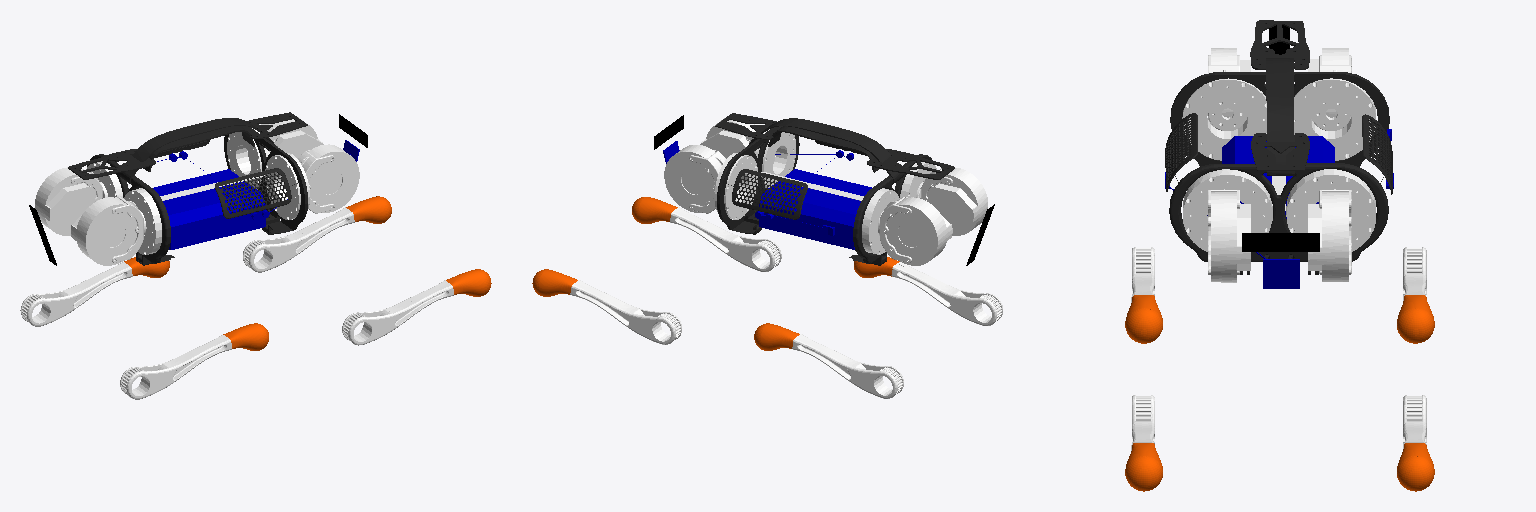
--- Facts derived from the render (not from the file) ---
Views: 3 orthographic renders of the robot side by side, from view 1: azimuth 30°, elevation 25°; view 2: azimuth 150°, elevation 25°; view 3: azimuth 270°, elevation 25°.
Model ylo2 with 25 links and 24 joints (8 revolute, 4 continuous, 11 fixed, 1 floating), rooted at world, posed all joints at 0 but 4 set to mid-range because 0 is outside their limits (rf_kfe_joint = -1.71, lf_kfe_joint = -1.71, rh_kfe_joint = -1.71, lh_kfe_joint = -1.71).
Visible links, largest first — view 1: trunk, battery, abad_motors, rh_hip, rf_hip, lh_hip, rf_lowerleg, rh_lowerleg, lh_lowerleg, lf_lowerleg, lf_hip, rf_foot (+3 smaller); view 2: trunk, abad_motors, battery, lh_hip, lf_hip, rh_hip, lh_lowerleg, rf_lowerleg, lf_lowerleg, rh_lowerleg, rf_hip, lh_foot (+4 smaller); view 3: trunk, abad_motors, lf_hip, rf_hip, lh_hip, rh_hip, battery, D435, rh_foot, lh_foot, rf_foot, lf_foot (+5 smaller).
Link boxes in pixels (x1=…): trunk: x1=68, y1=112, x2=307, y2=265; battery: x1=153, y1=169, x2=265, y2=249; abad_motors: x1=86, y1=128, x2=309, y2=254; rh_hip: x1=71, y1=196, x2=146, y2=265; rf_hip: x1=298, y1=144, x2=359, y2=213; lh_hip: x1=35, y1=167, x2=107, y2=235; rf_lowerleg: x1=342, y1=280, x2=453, y2=345; rh_lowerleg: x1=120, y1=335, x2=231, y2=399; lh_lowerleg: x1=20, y1=262, x2=132, y2=326; lf_lowerleg: x1=243, y1=207, x2=354, y2=272; lf_hip: x1=248, y1=117, x2=323, y2=165; rf_foot: x1=446, y1=269, x2=491, y2=296; trunk: x1=715, y1=113, x2=954, y2=265; abad_motors: x1=714, y1=129, x2=936, y2=254; battery: x1=759, y1=169, x2=871, y2=249; lh_hip: x1=878, y1=197, x2=952, y2=265; lf_hip: x1=664, y1=145, x2=725, y2=213; rh_hip: x1=916, y1=168, x2=987, y2=235; lh_lowerleg: x1=792, y1=334, x2=903, y2=398; rf_lowerleg: x1=670, y1=207, x2=781, y2=271; lf_lowerleg: x1=570, y1=280, x2=681, y2=344; rh_lowerleg: x1=891, y1=262, x2=1002, y2=325; rf_hip: x1=700, y1=118, x2=775, y2=163; lh_foot: x1=754, y1=323, x2=799, y2=350; trunk: x1=1165, y1=20, x2=1392, y2=274; abad_motors: x1=1182, y1=78, x2=1375, y2=251; lf_hip: x1=1308, y1=189, x2=1351, y2=281; rf_hip: x1=1208, y1=189, x2=1250, y2=282; lh_hip: x1=1308, y1=48, x2=1351, y2=130; rh_hip: x1=1208, y1=48, x2=1250, y2=130; battery: x1=1222, y1=136, x2=1334, y2=218; D435: x1=1242, y1=233, x2=1319, y2=251; rh_foot: x1=1125, y1=295, x2=1162, y2=343; lh_foot: x1=1397, y1=295, x2=1434, y2=343; rf_foot: x1=1125, y1=443, x2=1162, y2=491; lf_foot: x1=1397, y1=443, x2=1434, y2=491.
Size in the robot's own frame: 0.7105 by 0.3425 by 0.3404 metres.
18 mesh visuals loaded from 11 distinct referenced files (1 binary STL, 8 Collada DAE); not drawn: 5 (reference not matched to a file when rendering).

robot.urdf — ylo2:
<?xml version="1.0" ?>
<!-- =================================================================================== -->
<!-- |    This document was autogenerated by xacro from [local-path]/catkin_ws/src/wolf_descriptions/ylo2_description/robots/ylo2.urdf.xacro | -->
<!-- |    EDITING THIS FILE BY HAND IS NOT RECOMMENDED                                 | -->
<!-- =================================================================================== -->
<robot name="ylo2">
  <material name="black">
    <color rgba="0.0 0.0 0.0 1.0"/>
  </material>
  <material name="blue">
    <color rgba="0.0 0.0 0.8 1.0"/>
  </material>
  <material name="green">
    <color rgba="0.0 0.8 0.0 1.0"/>
  </material>
  <material name="grey">
    <color rgba="0.2 0.2 0.2 1.0"/>
  </material>
  <material name="silver">
    <color rgba="0.9137254901960784 0.9137254901960784 0.8470588235294118 1.0"/>
  </material>
  <material name="orange">
    <color rgba="1.0 0.4235294117647059 0.0392156862745098 1.0"/>
  </material>
  <material name="brown">
    <color rgba="0.8705882352941177 0.8117647058823529 0.7647058823529411 1.0"/>
  </material>
  <material name="red">
    <color rgba="0.8 0.0 0.0 1.0"/>
  </material>
  <material name="white">
    <color rgba="1.0 1.0 1.0 1.0"/>
  </material>
  <gazebo>
    <plugin filename="libgazebo_ros_control.so" name="gazebo_ros_controller_manager">
      <robotNamespace>ylo2</robotNamespace>
      <robotSimType>wolf_gazebo_interface/WolfRobotHwSim</robotSimType>
      <controlPeriod>0.004</controlPeriod>
    </plugin>
    <plugin filename="libgazebo_ros_p3d.so" name="ground_truth">
      <robotNamespace>ylo2</robotNamespace>
      <bodyName>trunk</bodyName>
      <topicName>ground_truth</topicName>
      <frameName>world</frameName>
      <xyzOffsets>0 0 0</xyzOffsets>
      <rpyOffsets>0 0 0</rpyOffsets>
      <gaussianNoise>0</gaussianNoise>
      <alwaysOn>true</alwaysOn>
      <updateRate>250.0</updateRate>
    </plugin>
  </gazebo>
  <!-- Constants for robot dimensions -->
  <!-- simplified collision value for ylo2 -->
  <!-- body -->
  <!-- adjust center of robot -->
  <!-- leg params. -->
  <!-- kinematic value -->
  <!-- lower leg size, from lower leg axis to end foot -->
  <!-- leg offset from trunk center value -->
  <!-- joint limits -->
  <!-- dynamics inertial value 
            | ixx ixy ixz |
            | ixy iyy iyz |
            | ixz iyz izz | -->
  <!-- trunk -->
  <!-- 0.000194 -->
  <!-- hip (left front) -->
  <!-- upperleg -->
  <!-- lowerleg -->
  <!-- foot -->
  <link name="world"/>
  <joint name="floating_base_joint" type="floating">
    <origin rpy="0 0 0" xyz="0 0 0"/>
    <parent link="world"/>
    <child link="trunk"/>
  </joint>
  <link name="trunk">
    <visual>
      <origin rpy="0 0 0" xyz="0.0 0 0.0"/>
      <geometry>
        <mesh filename="package://ylo2_description/meshes/body/textured/ylo2_textured_body.dae" scale="1 1 1"/>
      </geometry>
      <material name="grey"/>
    </visual>
    <collision>
      <origin rpy="0 0 0" xyz="0.0 0 0.0"/>
      <geometry>
        <mesh filename="package://ylo2_description/meshes/body/covers_collision.stl" scale="1 1 1"/>
      </geometry>
    </collision>
    <inertial>
      <origin rpy="0 0 0" xyz="0.02 0.00194 0.0"/>
      <mass value="3.128"/>
      <inertia ixx="0.01585" ixy="-0.0001332" ixz="-0.0002403" iyy="0.04168" iyz="1.5299e-05" izz="0.04742"/>
    </inertial>
  </link>
  <link name="abad_motors">
    <visual>
      <origin rpy="0 0 0" xyz="0.0 0.0 0.0"/>
      <geometry>
        <mesh filename="package://ylo2_description/meshes/body/textured/ylo2_textured_abad_motors.dae" scale="1 1 1"/>
      </geometry>
      <material name="white"/>
    </visual>
  </link>
  <joint name="abad_motors_joint" type="fixed">
    <parent link="trunk"/>
    <child link="abad_motors"/>
    <origin rpy="0 0 0" xyz="0 0 0"/>
  </joint>
  <link name="battery">
    <visual>
      <origin rpy="0 0 0" xyz="0.0 0.0 0.0"/>
      <geometry>
        <mesh filename="package://ylo2_description/meshes/body/battery.stl" scale="1 1 1"/>
      </geometry>
      <material name="blue"/>
    </visual>
  </link>
  <joint name="battery_joint" type="fixed">
    <parent link="trunk"/>
    <child link="battery"/>
    <origin rpy="0 0 0" xyz="0 0 0"/>
  </joint>
  <link name="covers">
    <visual>
      <origin rpy="0 0 0" xyz="0.0 0.0 0.0"/>
      <geometry>
        <mesh filename="package://ylo2_description/meshes/body/textured/ylo2_textured_cover.dae" scale="1 1 1"/>
      </geometry>
      <material name="orange"/>
    </visual>
  </link>
  <joint name="covers_joint" type="fixed">
    <parent link="trunk"/>
    <child link="covers"/>
    <origin rpy="0 0 0" xyz="0 0 0"/>
  </joint>
  <link name="accessories">
    <visual>
      <origin rpy="0 0 0" xyz="0.0 0.0 0.0"/>
      <geometry>
        <mesh filename="package://ylo2_description/meshes/body/textured/accessories.dae" scale="1 1 1"/>
      </geometry>
      <material name="blue"/>
    </visual>
  </link>
  <joint name="accessories_joint" type="fixed">
    <parent link="trunk"/>
    <child link="accessories"/>
    <origin rpy="0 0 0" xyz="0 0 0"/>
  </joint>
  <link name="D435">
    <visual>
      <origin rpy="0 0 0" xyz="0.0 0.004 0.0"/>
      <geometry>
        <mesh filename="package://ylo2_description/meshes/body/textured/ylo2_d435_textured.dae" scale="1 1 1"/>
      </geometry>
      <material name="black"/>
    </visual>
  </link>
  <joint name="D435_joint" type="fixed">
    <parent link="trunk"/>
    <child link="D435"/>
    <origin rpy="0 0 0" xyz="0 0 0"/>
  </joint>
  <link name="T265">
    <visual>
      <origin rpy="0 0 0" xyz="0.001 0.0025 0.0"/>
      <geometry>
        <mesh filename="package://ylo2_description/meshes/body/textured/ylo2_t265_textured.dae" scale="1 1.06 1.04"/>
      </geometry>
      <material name="black"/>
    </visual>
  </link>
  <joint name="T265_joint" type="fixed">
    <parent link="trunk"/>
    <child link="T265"/>
    <origin rpy="0 0 0" xyz="0 0 0"/>
  </joint>
  <joint name="imu_joint" type="fixed">
    <parent link="trunk"/>
    <child link="trunk_imu"/>
    <origin rpy="0 0 0" xyz="0 0 0"/>
  </joint>
  <link name="trunk_imu">
    <inertial>
      <mass value="0.001"/>
      <origin rpy="0 0 0" xyz="0 0 0"/>
      <inertia ixx="0.0001" ixy="0" ixz="0" iyy="0.000001" iyz="0" izz="0.0001"/>
    </inertial>
    <visual>
      <origin rpy="0 0 0" xyz="0 0 0"/>
      <geometry>
        <box size="0.001 0.001 0.001"/>
      </geometry>
      <material name="red"/>
    </visual>
    <collision>
      <origin rpy="0 0 0" xyz="0 0 0"/>
      <geometry>
        <box size=".001 .001 .001"/>
      </geometry>
    </collision>
  </link>
  <joint name="rf_haa_joint" type="revolute">
    <origin rpy="0 0 0" xyz="0.17450000000000002 -0.0512 0.023"/>
    <parent link="trunk"/>
    <child link="rf_hip"/>
    <axis xyz="1 0 0"/>
    <dynamics damping="0" friction="0"/>
    <limit effort="14" lower="-1.2217304763960306" upper="1.2217304763960306" velocity="20"/>
  </joint>
  <link name="rf_hip">
    <!-- AB AD -->
    <visual>
      <origin rpy="3.141592653589793 0 0" xyz="-0.06 0 0"/>
      <geometry>
        <mesh filename="package://ylo2_description/meshes/leg/textured/ylo2texturedhip.dae" scale="1 1 1"/>
      </geometry>
      <material name="white"/>
    </visual>
    <inertial>
      <origin rpy="0 0 0" xyz="-0.011957 -0.000306 0.000366"/>
      <mass value="0.599"/>
      <inertia ixx="0.0004159" ixy="-4.253e-06" ixz="3.68e-07" iyy="0.0007108" iyz="-2.15e-07" izz="0.0004707"/>
    </inertial>
  </link>
  <joint name="rf_hfe_joint" type="continuous">
    <origin rpy="0 0 0" xyz="0.0 -0.092 0"/>
    <parent link="rf_hip"/>
    <child link="rf_upperleg"/>
    <axis xyz="0 1 0"/>
    <dynamics damping="0" friction="0"/>
    <limit effort="14" velocity="20"/>
  </joint>
  <link name="rf_upperleg">
    <visual>
      <origin rpy="0 0 0" xyz="0 0.0732 0"/>
      <!-- positionnement des 4 axes en meme temps -->
      <geometry>
        <mesh filename="package://ylo2_description/meshes/leg/textured/ylo2_textured_upper_leg.dae" scale="1 -1 1"/>
      </geometry>
      <material name="grey"/>
    </visual>
    <collision>
      <origin rpy="0 0 0" xyz="0 0.0732 0"/>
      <!-- positionnement des 4 axes en meme temps -->
      <geometry>
        <mesh filename="package://ylo2_description/meshes/leg/fl_upper_leg_collision.stl" scale="1 -1 1"/>
      </geometry>
      <material name="red"/>
    </collision>
    <inertial>
      <origin rpy="0 0 0" xyz="-0.000684 0.010999 -0.035487"/>
      <mass value="1.08"/>
      <inertia ixx="0.005666803" ixy="-3.597e-06" ixz="0.000491446" iyy="0.005847229" iyz="-1.0086e-05" izz="0.000369811"/>
    </inertial>
  </link>
  <joint name="rf_kfe_joint" type="revolute">
    <origin rpy="0 0 0" xyz="0 -0.001 -0.215427"/>
    <parent link="rf_upperleg"/>
    <child link="rf_lowerleg"/>
    <axis xyz="0 1 0"/>
    <dynamics damping="0" friction="0"/>
    <limit effort="14" lower="-2.775073510670984" upper="-0.6457718232379019" velocity="15"/>
  </joint>
  <link name="rf_lowerleg">
    <visual>
      <origin rpy="0 0 0" xyz="0 -0.001 0"/>
      <geometry>
        <mesh filename="package://ylo2_description/meshes/leg/textured/lower_leg.dae" scale="1 1 1"/>
      </geometry>
      <material name="white"/>
    </visual>
    <collision>
      <origin rpy="0 0 0" xyz="0 -0.001 0"/>
      <geometry>
        <mesh filename="package://ylo2_description/meshes/leg/fl_lower_leg_collision.stl" scale="1 -1 1"/>
      </geometry>
      <material name="red"/>
    </collision>
    <inertial>
      <origin rpy="0 0 0" xyz="0.000252 0.000194 -0.05192"/>
      <mass value="0.175"/>
      <inertia ixx="0.0004583" ixy="-9.5e-08" ixz="2.6512e-05" iyy="0.0004675" iyz="2.77e-07" izz="2.9145e-05"/>
    </inertial>
  </link>
  <joint name="rf_foot_fixed" type="fixed">
    <origin rpy="0 0 0" xyz="0 0 -0.229819"/>
    <parent link="rf_lowerleg"/>
    <child link="rf_foot"/>
  </joint>
  <link name="rf_foot">
    <inertial>
      <origin rpy="0 0 0" xyz="-0.007246 9.2e-05 -0.038267"/>
      <mass value="0.078"/>
      <inertia ixx="2.9902e-05" ixy="-2.2e-08" ixz="-4.427e-06" iyy="3.0583e-05" iyz="-9.9e-08" izz="1.4025e-05"/>
    </inertial>
    <visual>
      <origin rpy="0 0 0" xyz="0.009 0.0 0.069"/>
      <geometry>
        <mesh filename="package://ylo2_description/meshes/leg/fl_foot.dae" scale="1.0 1.0 1.0"/>
      </geometry>
      <material name="orange"/>
    </visual>
    <collision>
      <origin rpy="0 0 0" xyz="0.009 0.0 0.069"/>
      <geometry>
        <mesh filename="package://ylo2_description/meshes/leg/fl_foot_collision.stl" scale="1.0 1.0 1.0"/>
      </geometry>
      <material name="red"/>
    </collision>
  </link>
  <joint name="lf_haa_joint" type="revolute">
    <origin rpy="0 0 0" xyz="0.17450000000000002 0.0632 0.023"/>
    <parent link="trunk"/>
    <child link="lf_hip"/>
    <axis xyz="1 0 0"/>
    <dynamics damping="0" friction="0"/>
    <limit effort="14" lower="-1.2217304763960306" upper="1.2217304763960306" velocity="20"/>
  </joint>
  <link name="lf_hip">
    <!-- AB AD -->
    <visual>
      <origin rpy="0 0 0" xyz="-0.06 0 0"/>
      <geometry>
        <mesh filename="package://ylo2_description/meshes/leg/textured/ylo2texturedhip.dae" scale="1 1 1"/>
      </geometry>
      <material name="white"/>
    </visual>
    <inertial>
      <origin rpy="0 0 0" xyz="-0.011957 0.000306 0.000366"/>
      <mass value="0.599"/>
      <inertia ixx="0.0004159" ixy="4.253e-06" ixz="3.68e-07" iyy="0.0007108" iyz="2.15e-07" izz="0.0004707"/>
    </inertial>
  </link>
  <joint name="lf_hfe_joint" type="continuous">
    <origin rpy="0 0 0" xyz="0.0 0.092 0"/>
    <parent link="lf_hip"/>
    <child link="lf_upperleg"/>
    <axis xyz="0 1 0"/>
    <dynamics damping="0" friction="0"/>
    <limit effort="14" velocity="20"/>
  </joint>
  <link name="lf_upperleg">
    <visual>
      <origin rpy="0 0 0" xyz="0 -0.0732 0"/>
      <!-- positionnement des 4 axes en meme temps -->
      <geometry>
        <mesh filename="package://ylo2_description/meshes/leg/textured/ylo2_textured_upper_leg.dae" scale="1 1 1"/>
      </geometry>
      <material name="grey"/>
    </visual>
    <collision>
      <origin rpy="0 0 0" xyz="0 -0.0732 0"/>
      <!-- positionnement des 4 axes en meme temps -->
      <geometry>
        <mesh filename="package://ylo2_description/meshes/leg/fl_upper_leg_collision.stl" scale="1 1 1"/>
      </geometry>
      <material name="red"/>
    </collision>
    <inertial>
      <origin rpy="0 0 0" xyz="-0.000684 -0.010999 -0.035487"/>
      <mass value="1.08"/>
      <inertia ixx="0.005666803" ixy="3.597e-06" ixz="0.000491446" iyy="0.005847229" iyz="1.0086e-05" izz="0.000369811"/>
    </inertial>
  </link>
  <joint name="lf_kfe_joint" type="revolute">
    <origin rpy="0 0 0" xyz="0 -0.001 -0.215427"/>
    <parent link="lf_upperleg"/>
    <child link="lf_lowerleg"/>
    <axis xyz="0 1 0"/>
    <dynamics damping="0" friction="0"/>
    <limit effort="14" lower="-2.775073510670984" upper="-0.6457718232379019" velocity="15"/>
  </joint>
  <link name="lf_lowerleg">
    <visual>
      <origin rpy="0 0 0" xyz="0 0.001 0"/>
      <geometry>
        <mesh filename="package://ylo2_description/meshes/leg/textured/lower_leg.dae" scale="1 1 1"/>
      </geometry>
      <material name="white"/>
    </visual>
    <collision>
      <origin rpy="0 0 0" xyz="0 0.001 0"/>
      <geometry>
        <mesh filename="package://ylo2_description/meshes/leg/fl_lower_leg_collision.stl" scale="1 -1 1"/>
      </geometry>
      <material name="red"/>
    </collision>
    <inertial>
      <origin rpy="0 0 0" xyz="0.000252 0.000194 -0.05192"/>
      <mass value="0.175"/>
      <inertia ixx="0.0004583" ixy="-9.5e-08" ixz="2.6512e-05" iyy="0.0004675" iyz="2.77e-07" izz="2.9145e-05"/>
    </inertial>
  </link>
  <joint name="lf_foot_fixed" type="fixed">
    <origin rpy="0 0 0" xyz="0 0 -0.229819"/>
    <parent link="lf_lowerleg"/>
    <child link="lf_foot"/>
  </joint>
  <link name="lf_foot">
    <inertial>
      <origin rpy="0 0 0" xyz="-0.007246 9.2e-05 -0.038267"/>
      <mass value="0.078"/>
      <inertia ixx="2.9902e-05" ixy="-2.2e-08" ixz="-4.427e-06" iyy="3.0583e-05" iyz="-9.9e-08" izz="1.4025e-05"/>
    </inertial>
    <visual>
      <origin rpy="0 0 0" xyz="0.009 0.002 0.069"/>
      <geometry>
        <mesh filename="package://ylo2_description/meshes/leg/fl_foot.dae" scale="1.0 1.0 1.0"/>
      </geometry>
      <material name="orange"/>
    </visual>
    <collision>
      <origin rpy="0 0 0" xyz="0.009 0.002 0.069"/>
      <geometry>
        <mesh filename="package://ylo2_description/meshes/leg/fl_foot_collision.stl" scale="1.0 1.0 1.0"/>
      </geometry>
      <material name="red"/>
    </collision>
  </link>
  <joint name="rh_haa_joint" type="revolute">
    <origin rpy="0 0 0" xyz="-0.2125 -0.0512 0.023"/>
    <parent link="trunk"/>
    <child link="rh_hip"/>
    <axis xyz="1 0 0"/>
    <dynamics damping="0" friction="0"/>
    <limit effort="14" lower="-1.2217304763960306" upper="1.2217304763960306" velocity="20"/>
  </joint>
  <link name="rh_hip">
    <!-- AB AD -->
    <visual>
      <origin rpy="3.141592653589793 3.141592653589793 0" xyz="0.06 0 0"/>
      <geometry>
        <mesh filename="package://ylo2_description/meshes/leg/textured/ylo2texturedhip.dae" scale="1 1 1"/>
      </geometry>
      <material name="white"/>
    </visual>
    <inertial>
      <origin rpy="0 0 0" xyz="0.011957 -0.000306 0.000366"/>
      <mass value="0.599"/>
      <inertia ixx="0.0004159" ixy="4.253e-06" ixz="-3.68e-07" iyy="0.0007108" iyz="-2.15e-07" izz="0.0004707"/>
    </inertial>
  </link>
  <joint name="rh_hfe_joint" type="continuous">
    <origin rpy="0 0 0" xyz="0.0 -0.092 0"/>
    <parent link="rh_hip"/>
    <child link="rh_upperleg"/>
    <axis xyz="0 1 0"/>
    <dynamics damping="0" friction="0"/>
    <limit effort="14" velocity="20"/>
  </joint>
  <link name="rh_upperleg">
    <visual>
      <origin rpy="0 0 0" xyz="0 0.0732 0"/>
      <!-- positionnement des 4 axes en meme temps -->
      <geometry>
        <mesh filename="package://ylo2_description/meshes/leg/textured/ylo2_textured_upper_leg.dae" scale="1 -1 1"/>
      </geometry>
      <material name="grey"/>
    </visual>
    <collision>
      <origin rpy="0 0 0" xyz="0 0.0732 0"/>
      <!-- positionnement des 4 axes en meme temps -->
      <geometry>
        <mesh filename="package://ylo2_description/meshes/leg/fl_upper_leg_collision.stl" scale="1 -1 1"/>
      </geometry>
      <material name="red"/>
    </collision>
    <inertial>
      <origin rpy="0 0 0" xyz="-0.000684 0.010999 -0.035487"/>
      <mass value="1.08"/>
      <inertia ixx="0.005666803" ixy="-3.597e-06" ixz="0.000491446" iyy="0.005847229" iyz="-1.0086e-05" izz="0.000369811"/>
    </inertial>
  </link>
  <joint name="rh_kfe_joint" type="revolute">
    <origin rpy="0 0 0" xyz="0 -0.001 -0.215427"/>
    <parent link="rh_upperleg"/>
    <child link="rh_lowerleg"/>
    <axis xyz="0 1 0"/>
    <dynamics damping="0" friction="0"/>
    <limit effort="14" lower="-2.775073510670984" upper="-0.6457718232379019" velocity="15"/>
  </joint>
  <link name="rh_lowerleg">
    <visual>
      <origin rpy="0 0 0" xyz="0 -0.001 0"/>
      <geometry>
        <mesh filename="package://ylo2_description/meshes/leg/textured/lower_leg.dae" scale="1 1 1"/>
      </geometry>
      <material name="white"/>
    </visual>
    <collision>
      <origin rpy="0 0 0" xyz="0 -0.001 0"/>
      <geometry>
        <mesh filename="package://ylo2_description/meshes/leg/fl_lower_leg_collision.stl" scale="1 -1 1"/>
      </geometry>
      <material name="red"/>
    </collision>
    <inertial>
      <origin rpy="0 0 0" xyz="0.000252 0.000194 -0.05192"/>
      <mass value="0.175"/>
      <inertia ixx="0.0004583" ixy="-9.5e-08" ixz="2.6512e-05" iyy="0.0004675" iyz="2.77e-07" izz="2.9145e-05"/>
    </inertial>
  </link>
  <joint name="rh_foot_fixed" type="fixed">
    <origin rpy="0 0 0" xyz="0 0 -0.229819"/>
    <parent link="rh_lowerleg"/>
    <child link="rh_foot"/>
  </joint>
  <link name="rh_foot">
    <inertial>
      <origin rpy="0 0 0" xyz="-0.007246 9.2e-05 -0.038267"/>
      <mass value="0.078"/>
      <inertia ixx="2.9902e-05" ixy="-2.2e-08" ixz="-4.427e-06" iyy="3.0583e-05" iyz="-9.9e-08" izz="1.4025e-05"/>
    </inertial>
    <visual>
      <origin rpy="0 0 0" xyz="0.009 0.0 0.069"/>
      <geometry>
        <mesh filename="package://ylo2_description/meshes/leg/fl_foot.dae" scale="1.0 1.0 1.0"/>
      </geometry>
      <material name="orange"/>
    </visual>
    <collision>
      <origin rpy="0 0 0" xyz="0.009 0.0 0.069"/>
      <geometry>
        <mesh filename="package://ylo2_description/meshes/leg/fl_foot_collision.stl" scale="1.0 1.0 1.0"/>
      </geometry>
      <material name="red"/>
    </collision>
  </link>
  <joint name="lh_haa_joint" type="revolute">
    <origin rpy="0 0 0" xyz="-0.2125 0.0632 0.023"/>
    <parent link="trunk"/>
    <child link="lh_hip"/>
    <axis xyz="1 0 0"/>
    <dynamics damping="0" friction="0"/>
    <limit effort="14" lower="-1.2217304763960306" upper="1.2217304763960306" velocity="20"/>
  </joint>
  <link name="lh_hip">
    <!-- AB AD -->
    <visual>
      <origin rpy="0 3.141592653589793 0" xyz="0.06 0 0"/>
      <geometry>
        <mesh filename="package://ylo2_description/meshes/leg/textured/ylo2texturedhip.dae" scale="1 1 1"/>
      </geometry>
      <material name="white"/>
    </visual>
    <inertial>
      <origin rpy="0 0 0" xyz="0.011957 0.000306 0.000366"/>
      <mass value="0.599"/>
      <inertia ixx="0.0004159" ixy="-4.253e-06" ixz="-3.68e-07" iyy="0.0007108" iyz="2.15e-07" izz="0.0004707"/>
    </inertial>
  </link>
  <joint name="lh_hfe_joint" type="continuous">
    <origin rpy="0 0 0" xyz="0.0 0.092 0"/>
    <parent link="lh_hip"/>
    <child link="lh_upperleg"/>
    <axis xyz="0 1 0"/>
    <dynamics damping="0" friction="0"/>
    <limit effort="14" velocity="20"/>
  </joint>
  <link name="lh_upperleg">
    <visual>
      <origin rpy="0 0 0" xyz="0 -0.0732 0"/>
      <!-- positionnement des 4 axes en meme temps -->
      <geometry>
        <mesh filename="package://ylo2_description/meshes/leg/textured/ylo2_textured_upper_leg.dae" scale="1 1 1"/>
      </geometry>
      <material name="grey"/>
    </visual>
    <collision>
      <origin rpy="0 0 0" xyz="0 -0.0732 0"/>
      <!-- positionnement des 4 axes en meme temps -->
      <geometry>
        <mesh filename="package://ylo2_description/meshes/leg/fl_upper_leg_collision.stl" scale="1 1 1"/>
      </geometry>
      <material name="red"/>
    </collision>
    <inertial>
      <origin rpy="0 0 0" xyz="-0.000684 -0.010999 -0.035487"/>
      <mass value="1.08"/>
      <inertia ixx="0.005666803" ixy="3.597e-06" ixz="0.000491446" iyy="0.005847229" iyz="1.0086e-05" izz="0.000369811"/>
    </inertial>
  </link>
  <joint name="lh_kfe_joint" type="revolute">
    <origin rpy="0 0 0" xyz="0 -0.001 -0.215427"/>
    <parent link="lh_upperleg"/>
    <child link="lh_lowerleg"/>
    <axis xyz="0 1 0"/>
    <dynamics damping="0" friction="0"/>
    <limit effort="14" lower="-2.775073510670984" upper="-0.6457718232379019" velocity="15"/>
  </joint>
  <link name="lh_lowerleg">
    <visual>
      <origin rpy="0 0 0" xyz="0 0.001 0"/>
      <geometry>
        <mesh filename="package://ylo2_description/meshes/leg/textured/lower_leg.dae" scale="1 1 1"/>
      </geometry>
      <material name="white"/>
    </visual>
    <collision>
      <origin rpy="0 0 0" xyz="0 0.001 0"/>
      <geometry>
        <mesh filename="package://ylo2_description/meshes/leg/fl_lower_leg_collision.stl" scale="1 -1 1"/>
      </geometry>
      <material name="red"/>
    </collision>
    <inertial>
      <origin rpy="0 0 0" xyz="0.000252 0.000194 -0.05192"/>
      <mass value="0.175"/>
      <inertia ixx="0.0004583" ixy="-9.5e-08" ixz="2.6512e-05" iyy="0.0004675" iyz="2.77e-07" izz="2.9145e-05"/>
    </inertial>
  </link>
  <joint name="lh_foot_fixed" type="fixed">
    <origin rpy="0 0 0" xyz="0 0 -0.229819"/>
    <parent link="lh_lowerleg"/>
    <child link="lh_foot"/>
  </joint>
  <link name="lh_foot">
    <inertial>
      <origin rpy="0 0 0" xyz="-0.007246 9.2e-05 -0.038267"/>
      <mass value="0.078"/>
      <inertia ixx="2.9902e-05" ixy="-2.2e-08" ixz="-4.427e-06" iyy="3.0583e-05" iyz="-9.9e-08" izz="1.4025e-05"/>
    </inertial>
    <visual>
      <origin rpy="0 0 0" xyz="0.009 0.002 0.069"/>
      <geometry>
        <mesh filename="package://ylo2_description/meshes/leg/fl_foot.dae" scale="1.0 1.0 1.0"/>
      </geometry>
      <material name="orange"/>
    </visual>
    <collision>
      <origin rpy="0 0 0" xyz="0.009 0.002 0.069"/>
      <geometry>
        <mesh filename="package://ylo2_description/meshes/leg/fl_foot_collision.stl" scale="1.0 1.0 1.0"/>
      </geometry>
      <material name="red"/>
    </collision>
  </link>
  <!-- <xacro:stairs stairs="15" xpos="0" ypos="2.0" zpos="0" /> -->
  <!-- Hip assembly -->
  <transmission name="rf_haa_trans">
    <type>transmission_interface/SimpleTransmission</type>
    <joint name="rf_haa_joint">
      <hardwareInterface>hardware_interface/EffortJointInterface</hardwareInterface>
    </joint>
    <actuator name="rf_haa_motor">
      <hardwareInterface>hardware_interface/EffortJointInterface</hardwareInterface>
      <mechanicalReduction>1</mechanicalReduction>
    </actuator>
  </transmission>
  <!-- Upper leg -->
  <transmission name="rf_hfe_trans">
    <type>transmission_interface/SimpleTransmission</type>
    <joint name="rf_hfe_joint">
      <hardwareInterface>hardware_interface/EffortJointInterface</hardwareInterface>
    </joint>
    <actuator name="rf_hfe_motor">
      <hardwareInterface>hardware_interface/EffortJointInterface</hardwareInterface>
      <mechanicalReduction>1</mechanicalReduction>
    </actuator>
  </transmission>
  <!-- Lower leg -->
  <transmission name="rf_kfe_trans">
    <type>transmission_interface/SimpleTransmission</type>
    <joint name="rf_kfe_joint">
      <hardwareInterface>hardware_interface/EffortJointInterface</hardwareInterface>
    </joint>
    <actuator name="rf_kfe_motor">
      <hardwareInterface>hardware_interface/EffortJointInterface</hardwareInterface>
      <mechanicalReduction>1</mechanicalReduction>
    </actuator>
  </transmission>
  <gazebo reference="rf_haa_joint">
    <provideFeedback>true</provideFeedback>
  </gazebo>
  <gazebo reference="rf_hfe_joint">
    <provideFeedback>true</provideFeedback>
  </gazebo>
  <gazebo reference="rf_kfe_joint">
    <provideFeedback>true</provideFeedback>
  </gazebo>
  <gazebo reference="rf_foot_joint">
    <disableFixedJointLumping>true</disableFixedJointLumping>
  </gazebo>
  <gazebo reference="rf_upperleg">
    <kp>1000000.0</kp>
    <kd>100.0</kd>
    <mu1>1.5</mu1>
    <mu2>1.5</mu2>
    <fdir1>1 0 0</fdir1>
    <maxVel>1.0</maxVel>
    <minDepth>0.00</minDepth>
  </gazebo>
  <gazebo reference="rf_lowerleg">
    <kp>1000000.0</kp>
    <kd>100.0</kd>
    <mu1>1.0</mu1>
    <mu2>1.0</mu2>
    <maxVel>1.0</maxVel>
    <maxContacts>1</maxContacts>
    <sensor name="rf_shin_contact_sensor" type="contact">
      <always_on>true</always_on>
      <update_rate>250.0</update_rate>
      <contact>
        <collision>rf_lowerleg_collision</collision>
      </contact>
      <plugin filename="libgazebo_ros_bumper.so" name="rf_shin_bumper">
        <bumperTopicName>/ylo2/rf_shin_bumper</bumperTopicName>
        <robotNamespace>ylo2</robotNamespace>
        <frameName>rf_lowerleg</frameName>
      </plugin>
    </sensor>
  </gazebo>
  <gazebo reference="rf_foot">
    <kp>1000000.0</kp>
    <kd>100.0</kd>
    <mu1>1.0</mu1>
    <mu2>1.0</mu2>
    <maxVel>1.0</maxVel>
    <maxContacts>1</maxContacts>
    <sensor name="rf_foot_contact_sensor" type="contact">
      <always_on>true</always_on>
      <update_rate>250.0</update_rate>
      <contact>
        <collision>rf_foot_collision</collision>
      </contact>
      <plugin filename="libgazebo_ros_bumper.so" name="rf_foot_bumper">
        <bumperTopicName>/ylo2/rf_foot_bumper</bumperTopicName>
        <robotNamespace>ylo2</robotNamespace>
        <frameName>rf_foot</frameName>
      </plugin>
    </sensor>
  </gazebo>
  <!-- Hip assembly -->
  <transmission name="lf_haa_trans">
    <type>transmission_interface/SimpleTransmission</type>
    <joint name="lf_haa_joint">
      <hardwareInterface>hardware_interface/EffortJointInterface</hardwareInterface>
    </joint>
    <actuator name="lf_haa_motor">
      <hardwareInterface>hardware_interface/EffortJointInterface</hardwareInterface>
      <mechanicalReduction>1</mechanicalReduction>
    </actuator>
  </transmission>
  <!-- Upper leg -->
  <transmission name="lf_hfe_trans">
    <type>transmission_interface/SimpleTransmission</type>
    <joint name="lf_hfe_joint">
      <hardwareInterface>hardware_interface/EffortJointInterface</hardwareInterface>
    </joint>
    <actuator name="lf_hfe_motor">
      <hardwareInterface>hardware_interface/EffortJointInterface</hardwareInterface>
      <mechanicalReduction>1</mechanicalReduction>
    </actuator>
  </transmission>
  <!-- Lower leg -->
  <transmission name="lf_kfe_trans">
    <type>transmission_interface/SimpleTransmission</type>
    <joint name="lf_kfe_joint">
      <hardwareInterface>hardware_interface/EffortJointInterface</hardwareInterface>
    </joint>
    <actuator name="lf_kfe_motor">
      <hardwareInterface>hardware_interface/EffortJointInterface</hardwareInterface>
      <mechanicalReduction>1</mechanicalReduction>
    </actuator>
  </transmission>
  <gazebo reference="lf_haa_joint">
    <provideFeedback>true</provideFeedback>
  </gazebo>
  <gazebo reference="lf_hfe_joint">
    <provideFeedback>true</provideFeedback>
  </gazebo>
  <gazebo reference="lf_kfe_joint">
    <provideFeedback>true</provideFeedback>
  </gazebo>
  <gazebo reference="lf_foot_joint">
    <disableFixedJointLumping>true</disableFixedJointLumping>
  </gazebo>
  <gazebo reference="lf_upperleg">
    <kp>1000000.0</kp>
    <kd>100.0</kd>
    <mu1>1.5</mu1>
    <mu2>1.5</mu2>
    <fdir1>1 0 0</fdir1>
    <maxVel>1.0</maxVel>
    <minDepth>0.00</minDepth>
  </gazebo>
  <gazebo reference="lf_lowerleg">
    <kp>1000000.0</kp>
    <kd>100.0</kd>
    <mu1>1.0</mu1>
    <mu2>1.0</mu2>
    <maxVel>1.0</maxVel>
    <maxContacts>1</maxContacts>
    <sensor name="lf_shin_contact_sensor" type="contact">
      <always_on>true</always_on>
      <update_rate>250.0</update_rate>
      <contact>
        <collision>lf_lowerleg_collision</collision>
      </contact>
      <plugin filename="libgazebo_ros_bumper.so" name="lf_shin_bumper">
        <bumperTopicName>/ylo2/lf_shin_bumper</bumperTopicName>
        <robotNamespace>ylo2</robotNamespace>
        <frameName>lf_lowerleg</frameName>
      </plugin>
    </sensor>
  </gazebo>
  <gazebo reference="lf_foot">
    <kp>1000000.0</kp>
    <kd>100.0</kd>
    <mu1>1.0</mu1>
    <mu2>1.0</mu2>
    <maxVel>1.0</maxVel>
    <maxContacts>1</maxContacts>
    <sensor name="lf_foot_contact_sensor" type="contact">
      <always_on>true</always_on>
      <update_rate>250.0</update_rate>
      <contact>
        <collision>lf_foot_collision</collision>
      </contact>
      <plugin filename="libgazebo_ros_bumper.so" name="lf_foot_bumper">
        <bumperTopicName>/ylo2/lf_foot_bumper</bumperTopicName>
        <robotNamespace>ylo2</robotNamespace>
        <frameName>lf_foot</frameName>
      </plugin>
    </sensor>
  </gazebo>
  <!-- Hip assembly -->
  <transmission name="rh_haa_trans">
    <type>transmission_interface/SimpleTransmission</type>
    <joint name="rh_haa_joint">
      <hardwareInterface>hardware_interface/EffortJointInterface</hardwareInterface>
    </joint>
    <actuator name="rh_haa_motor">
      <hardwareInterface>hardware_interface/EffortJointInterface</hardwareInterface>
      <mechanicalReduction>1</mechanicalReduction>
    </actuator>
  </transmission>
  <!-- Upper leg -->
  <transmission name="rh_hfe_trans">
    <type>transmission_interface/SimpleTransmission</type>
    <joint name="rh_hfe_joint">
      <hardwareInterface>hardware_interface/EffortJointInterface</hardwareInterface>
    </joint>
    <actuator name="rh_hfe_motor">
      <hardwareInterface>hardware_interface/EffortJointInterface</hardwareInterface>
      <mechanicalReduction>1</mechanicalReduction>
    </actuator>
  </transmission>
  <!-- Lower leg -->
  <transmission name="rh_kfe_trans">
    <type>transmission_interface/SimpleTransmission</type>
    <joint name="rh_kfe_joint">
      <hardwareInterface>hardware_interface/EffortJointInterface</hardwareInterface>
    </joint>
    <actuator name="rh_kfe_motor">
      <hardwareInterface>hardware_interface/EffortJointInterface</hardwareInterface>
      <mechanicalReduction>1</mechanicalReduction>
    </actuator>
  </transmission>
  <gazebo reference="rh_haa_joint">
    <provideFeedback>true</provideFeedback>
  </gazebo>
  <gazebo reference="rh_hfe_joint">
    <provideFeedback>true</provideFeedback>
  </gazebo>
  <gazebo reference="rh_kfe_joint">
    <provideFeedback>true</provideFeedback>
  </gazebo>
  <gazebo reference="rh_foot_joint">
    <disableFixedJointLumping>true</disableFixedJointLumping>
  </gazebo>
  <gazebo reference="rh_upperleg">
    <kp>1000000.0</kp>
    <kd>100.0</kd>
    <mu1>1.5</mu1>
    <mu2>1.5</mu2>
    <fdir1>1 0 0</fdir1>
    <maxVel>1.0</maxVel>
    <minDepth>0.00</minDepth>
  </gazebo>
  <gazebo reference="rh_lowerleg">
    <kp>1000000.0</kp>
    <kd>100.0</kd>
    <mu1>1.0</mu1>
    <mu2>1.0</mu2>
    <maxVel>1.0</maxVel>
    <maxContacts>1</maxContacts>
    <sensor name="rh_shin_contact_sensor" type="contact">
      <always_on>true</always_on>
      <update_rate>250.0</update_rate>
      <contact>
        <collision>rh_lowerleg_collision</collision>
      </contact>
      <plugin filename="libgazebo_ros_bumper.so" name="rh_shin_bumper">
        <bumperTopicName>/ylo2/rh_shin_bumper</bumperTopicName>
        <robotNamespace>ylo2</robotNamespace>
        <frameName>rh_lowerleg</frameName>
      </plugin>
    </sensor>
  </gazebo>
  <gazebo reference="rh_foot">
    <kp>1000000.0</kp>
    <kd>100.0</kd>
    <mu1>1.0</mu1>
    <mu2>1.0</mu2>
    <maxVel>1.0</maxVel>
    <maxContacts>1</maxContacts>
    <sensor name="rh_foot_contact_sensor" type="contact">
      <always_on>true</always_on>
      <update_rate>250.0</update_rate>
      <contact>
        <collision>rh_foot_collision</collision>
      </contact>
      <plugin filename="libgazebo_ros_bumper.so" name="rh_foot_bumper">
        <bumperTopicName>/ylo2/rh_foot_bumper</bumperTopicName>
        <robotNamespace>ylo2</robotNamespace>
        <frameName>rh_foot</frameName>
      </plugin>
    </sensor>
  </gazebo>
  <!-- Hip assembly -->
  <transmission name="lh_haa_trans">
    <type>transmission_interface/SimpleTransmission</type>
    <joint name="lh_haa_joint">
      <hardwareInterface>hardware_interface/EffortJointInterface</hardwareInterface>
    </joint>
    <actuator name="lh_haa_motor">
      <hardwareInterface>hardware_interface/EffortJointInterface</hardwareInterface>
      <mechanicalReduction>1</mechanicalReduction>
    </actuator>
  </transmission>
  <!-- Upper leg -->
  <transmission name="lh_hfe_trans">
    <type>transmission_interface/SimpleTransmission</type>
    <joint name="lh_hfe_joint">
      <hardwareInterface>hardware_interface/EffortJointInterface</hardwareInterface>
    </joint>
    <actuator name="lh_hfe_motor">
      <hardwareInterface>hardware_interface/EffortJointInterface</hardwareInterface>
      <mechanicalReduction>1</mechanicalReduction>
    </actuator>
  </transmission>
  <!-- Lower leg -->
  <transmission name="lh_kfe_trans">
    <type>transmission_interface/SimpleTransmission</type>
    <joint name="lh_kfe_joint">
      <hardwareInterface>hardware_interface/EffortJointInterface</hardwareInterface>
    </joint>
    <actuator name="lh_kfe_motor">
      <hardwareInterface>hardware_interface/EffortJointInterface</hardwareInterface>
      <mechanicalReduction>1</mechanicalReduction>
    </actuator>
  </transmission>
  <gazebo reference="lh_haa_joint">
    <provideFeedback>true</provideFeedback>
  </gazebo>
  <gazebo reference="lh_hfe_joint">
    <provideFeedback>true</provideFeedback>
  </gazebo>
  <gazebo reference="lh_kfe_joint">
    <provideFeedback>true</provideFeedback>
  </gazebo>
  <gazebo reference="lh_foot_joint">
    <disableFixedJointLumping>true</disableFixedJointLumping>
  </gazebo>
  <gazebo reference="lh_upperleg">
    <kp>1000000.0</kp>
    <kd>100.0</kd>
    <mu1>1.5</mu1>
    <mu2>1.5</mu2>
    <fdir1>1 0 0</fdir1>
    <maxVel>1.0</maxVel>
    <minDepth>0.00</minDepth>
  </gazebo>
  <gazebo reference="lh_lowerleg">
    <kp>1000000.0</kp>
    <kd>100.0</kd>
    <mu1>1.0</mu1>
    <mu2>1.0</mu2>
    <maxVel>1.0</maxVel>
    <maxContacts>1</maxContacts>
    <sensor name="lh_shin_contact_sensor" type="contact">
      <always_on>true</always_on>
      <update_rate>250.0</update_rate>
      <contact>
        <collision>lh_lowerleg_collision</collision>
      </contact>
      <plugin filename="libgazebo_ros_bumper.so" name="lh_shin_bumper">
        <bumperTopicName>/ylo2/lh_shin_bumper</bumperTopicName>
        <robotNamespace>ylo2</robotNamespace>
        <frameName>lh_lowerleg</frameName>
      </plugin>
    </sensor>
  </gazebo>
  <gazebo reference="lh_foot">
    <kp>1000000.0</kp>
    <kd>100.0</kd>
    <mu1>1.0</mu1>
    <mu2>1.0</mu2>
    <maxVel>1.0</maxVel>
    <maxContacts>1</maxContacts>
    <sensor name="lh_foot_contact_sensor" type="contact">
      <always_on>true</always_on>
      <update_rate>250.0</update_rate>
      <contact>
        <collision>lh_foot_collision</collision>
      </contact>
      <plugin filename="libgazebo_ros_bumper.so" name="lh_foot_bumper">
        <bumperTopicName>/ylo2/lh_foot_bumper</bumperTopicName>
        <robotNamespace>ylo2</robotNamespace>
        <frameName>lh_foot</frameName>
      </plugin>
    </sensor>
  </gazebo>
</robot>
